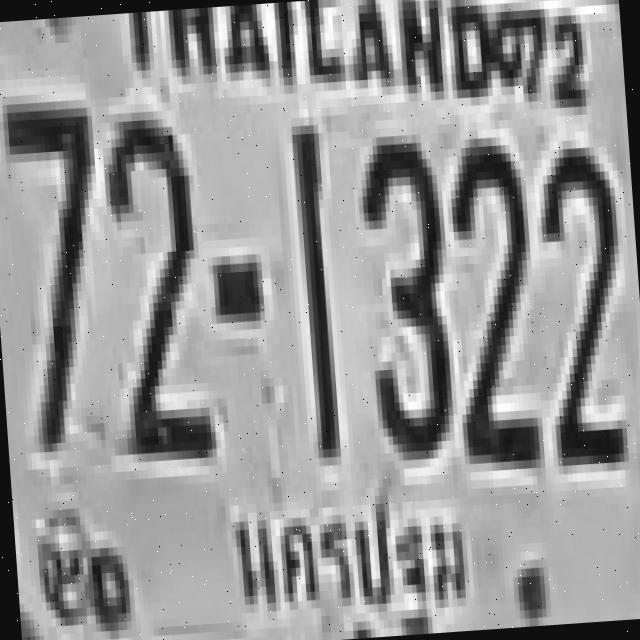1: (279, 108, 359, 482)
2: (90, 74, 232, 488), (446, 98, 554, 514), (528, 100, 640, 501)
3: (332, 96, 468, 497)
7: (0, 76, 118, 483)
NakhonPathom: (219, 482, 493, 640)
